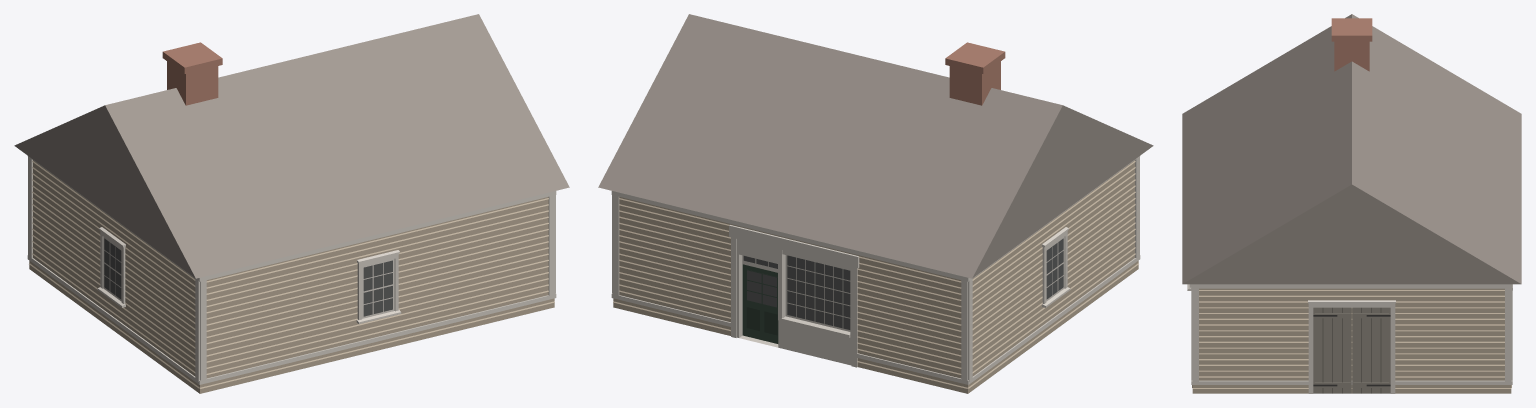
File: john_holbrook_store__frame_1835.glb
3 renders of one model, left to right at view 1: azimuth 30°, elevation 25°; view 2: azimuth 150°, elevation 25°; view 3: azimuth 270°, elevation 25°, orthographic. The views are drawn at different scales.
Parts seen in each view (by area): view 1: john_holbrook_store__frame_1835; view 2: john_holbrook_store__frame_1835; view 3: john_holbrook_store__frame_1835.
Part boxes in pixels (bbox=[...]): john_holbrook_store__frame_1835: bbox=[14, 14, 569, 393]; john_holbrook_store__frame_1835: bbox=[598, 14, 1153, 393]; john_holbrook_store__frame_1835: bbox=[1182, 14, 1521, 393].
Size of the model in its own units: 9.64 by 6.35 by 8.12.
